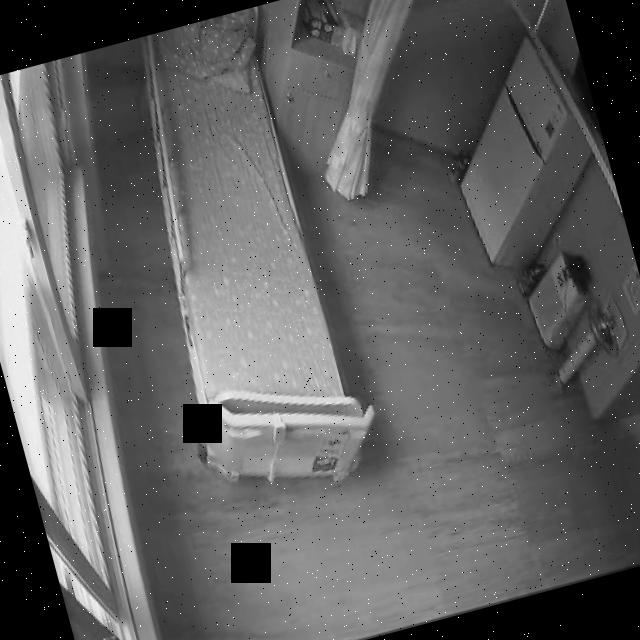bed: (98, 6, 388, 510)
